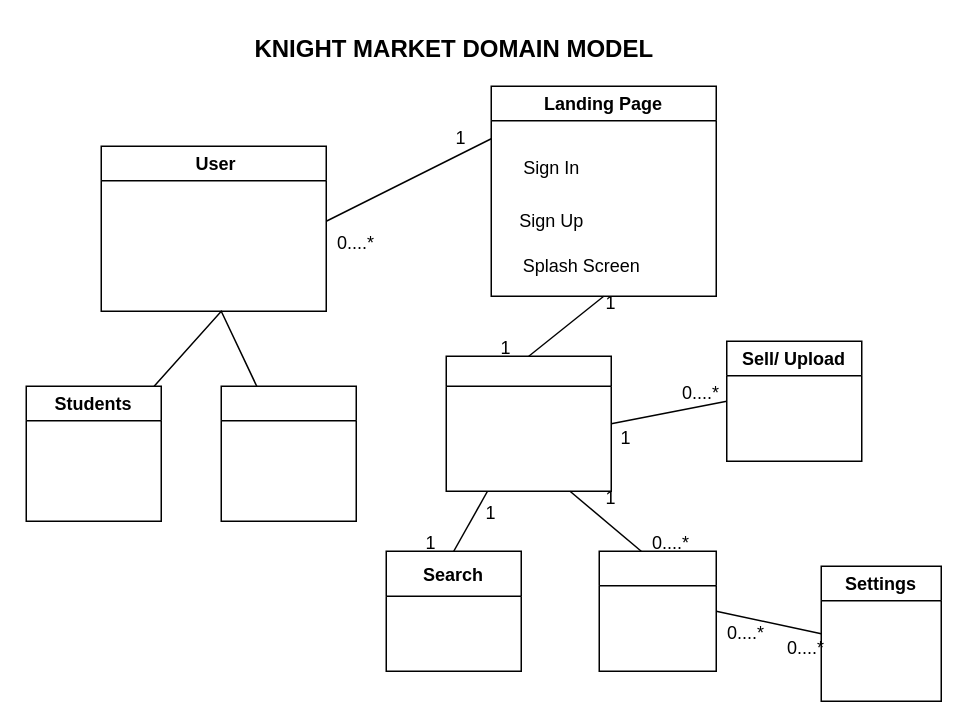
This 968x728 diagram has some shape labels left out. The centre of each missing label's shape, as x and y in pixels:
"Home Page" belongs at pixel 528 423.
"Other residents" belongs at pixel 288 453.
"Profile" belongs at pixel 657 610.
